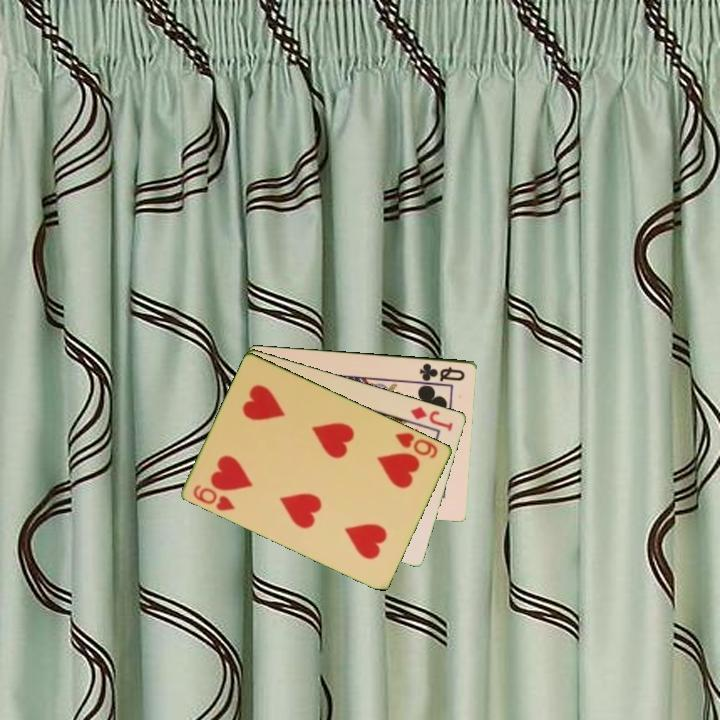6h: (392, 429, 441, 462), (190, 481, 238, 514)
Jd: (407, 403, 456, 434)
Qc: (416, 359, 468, 384)
